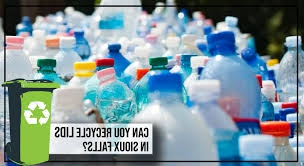plastic water bottle: (202, 33, 263, 135), (90, 68, 134, 129), (137, 55, 187, 108), (49, 34, 85, 80), (1, 33, 34, 80), (277, 33, 304, 90), (52, 86, 88, 122), (33, 56, 65, 83), (67, 60, 97, 84)
